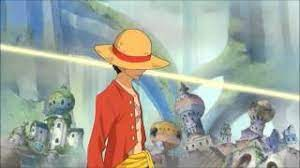Luffy: (111, 30, 153, 80)
